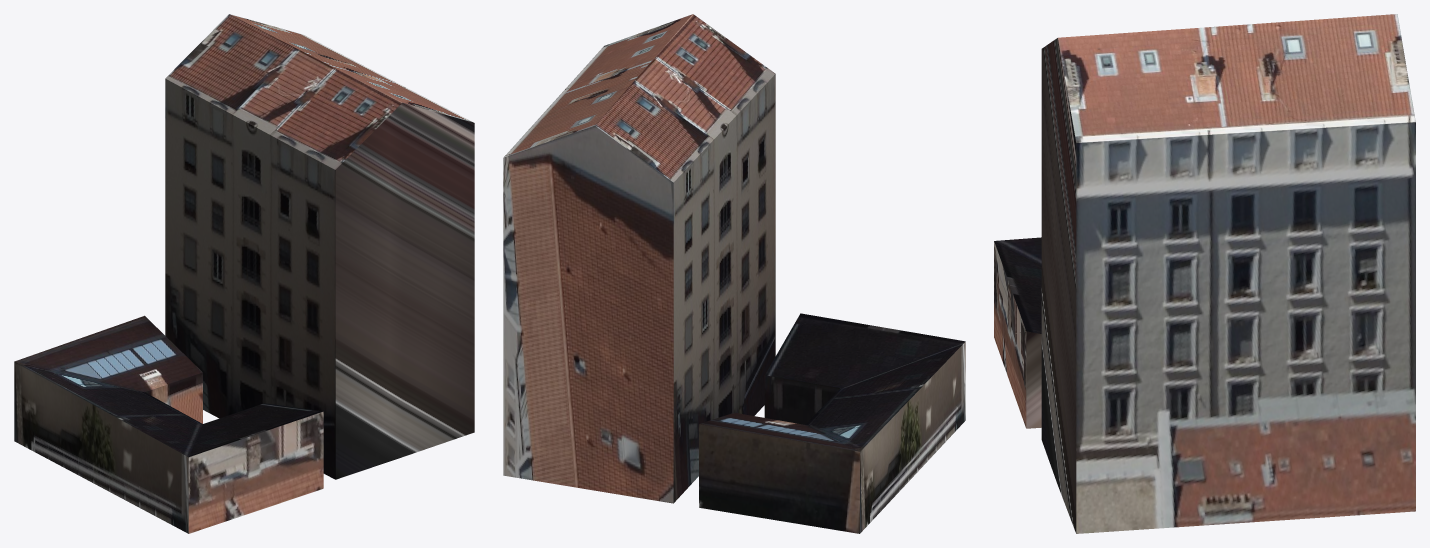
3 renders of one model, left to right at view 1: azimuth 30°, elevation 25°; view 2: azimuth 150°, elevation 25°; view 3: azimuth 270°, elevation 25°, orthographic. The views are drawn at different scales.
Parts seen in each view (by area): view 1: Z_UP; view 2: Z_UP; view 3: Z_UP.
Boxes of the visible parts, bbox=[...] form: Z_UP: bbox=[14, 14, 474, 533]; Z_UP: bbox=[503, 14, 965, 533]; Z_UP: bbox=[994, 14, 1415, 533].
Bounding box in the file's own units: 26.72 × 25.55 × 21.82.
2 materials, 1 textured.
